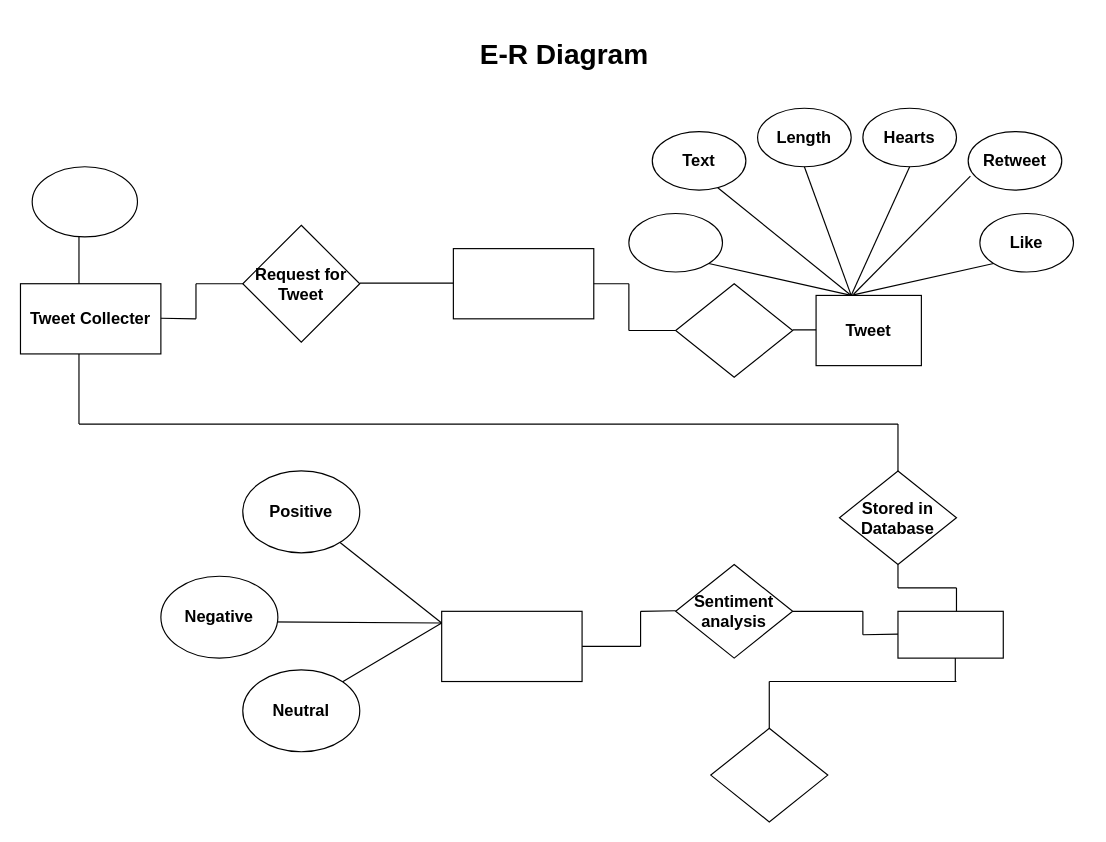
This 1106x842 diagram has some shape labels left out. Here are the shapes that lost their labels. From the top down, the box of each, then its label:
(31, 166, 137, 237): Login id
(628, 212, 722, 272): Time
(452, 247, 594, 319): Twitter
(675, 283, 793, 377): HAS
(441, 610, 582, 682): Sentiment analyzer
(897, 610, 1003, 658): Database
(710, 727, 828, 822): Extracted From DB
